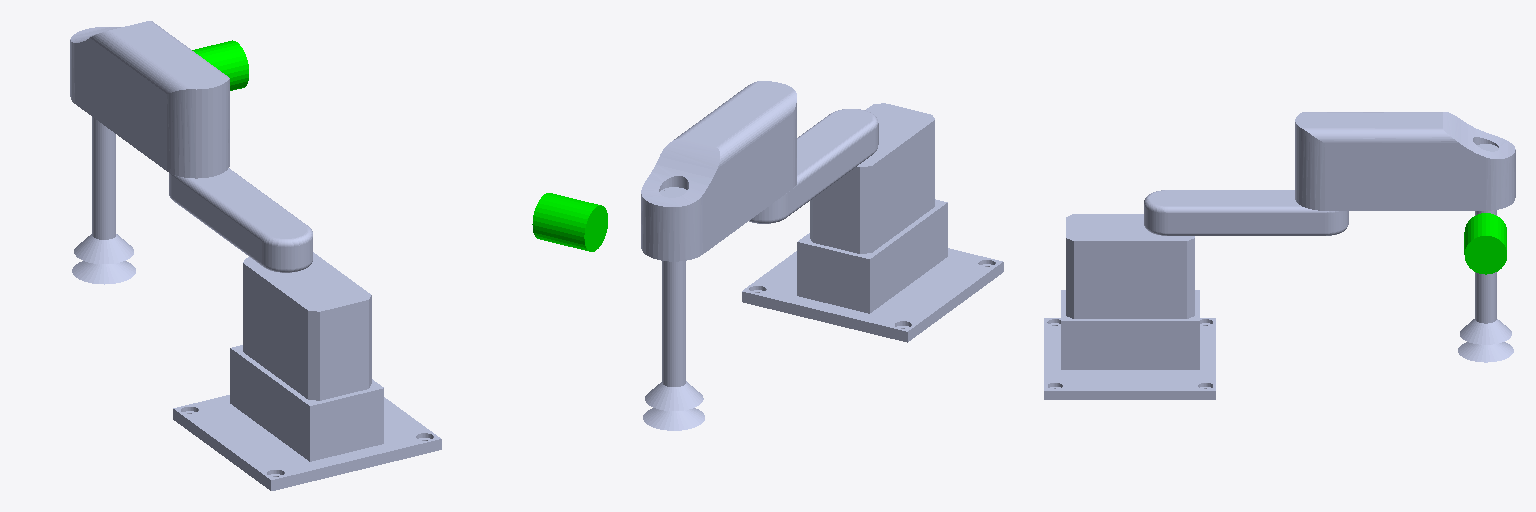
The robot description file, URDF, robot "scara":
<?xml version="1.0" encoding="utf-8"?>
<!-- This URDF was automatically created by SolidWorks to URDF Exporter! Originally created by [author] ([email redacted]) 
     Commit Version: 1.6.0-4-g7f85cfe  Build Version: 1.6.7995.38578
     For more information, please see http://wiki.ros.org/sw_urdf_exporter -->
<robot
  name="scara">
  <link
    name="base_link">
    <inertial>
      <origin
        xyz="4.9228E-19 0.057416 0.00026601"
        rpy="0 0 0" />
      <mass
        value="1.2659" />
      <inertia
        ixx="0.0041167"
        ixy="1.7022E-19"
        ixz="-1.4674E-19"
        iyy="0.0027026"
        iyz="-2.6126E-05"
        izz="0.0031757" />
    </inertial>
    <visual>
      <origin
        xyz="0 0 0"
        rpy="0 0 0" />
      <geometry>
        <mesh
          filename="package://scara/meshes/base_link.STL" />
      </geometry>
      <material
        name="">
        <color
          rgba="0.79216 0.81961 0.93333 1" />
      </material>
    </visual>
    <collision>
      <origin
        xyz="0 0 0"
        rpy="0 0 0" />
      <geometry>
        <mesh
          filename="package://scara/meshes/base_link.STL" />
      </geometry>
    </collision>
  </link>
  <link
    name="L1">
    <inertial>
      <origin
        xyz="0.067038 0.023797 -3.8903E-18"
        rpy="0 0 0" />
      <mass
        value="0.23993" />
      <inertia
        ixx="5.7474E-05"
        ixy="-5.325E-06"
        ixz="3.6951E-20"
        iyy="0.00068723"
        iyz="-2.0839E-21"
        izz="0.00066974" />
    </inertial>
    <visual>
      <origin
        xyz="0 0 0"
        rpy="0 0 0" />
      <geometry>
        <mesh
          filename="package://scara/meshes/L1.STL" />
      </geometry>
      <material
        name="">
        <color
          rgba="0.79216 0.81961 0.93333 1" />
      </material>
    </visual>
    <collision>
      <origin
        xyz="0 0 0"
        rpy="0 0 0" />
      <geometry>
        <mesh
          filename="package://scara/meshes/L1.STL" />
      </geometry>
    </collision>
  </link>
  <joint
    name="J1"
    type="revolute">
    <origin
      xyz="0 0.035 0.13"
      rpy="1.5708 0 1.5708" />
    <parent
      link="base_link" />
    <child
      link="L1" />
    <axis
      xyz="0 1 0" />
    <limit
      lower="-3.141"
      upper="3.141"
      effort="5"
      velocity="1" />
  </joint>
  <link
    name="L2">
    <inertial>
      <origin
        xyz="0.065399 0.047234 -3.984E-08"
        rpy="0 0 0" />
      <mass
        value="0.76354" />
      <inertia
        ixx="0.00057749"
        ixy="8.8165E-05"
        ixz="-6.814E-10"
        iyy="0.0023115"
        iyz="8.1844E-10"
        izz="0.00252" />
    </inertial>
    <visual>
      <origin
        xyz="0 0 0"
        rpy="0 0 0" />
      <geometry>
        <mesh
          filename="package://scara/meshes/L2.STL" />
      </geometry>
      <material
        name="">
        <color
          rgba="0.79216 0.81961 0.93333 1" />
      </material>
    </visual>
    <collision>
      <origin
        xyz="0 0 0"
        rpy="0 0 0" />
      <geometry>
        <mesh
          filename="package://scara/meshes/L2.STL" />
      </geometry>
    </collision>
  </link>
  <joint
    name="J2"
    type="revolute">
    <origin
      xyz="0.14577 0.03 0"
      rpy="0 0 0" />
    <parent
      link="L1" />
    <child
      link="L2" />
    <axis
      xyz="0 1 0" />
    <limit
      lower="-3.141"
      upper="3.141"
      effort="5"
      velocity="1" />
  </joint>
  <link
    name="L3">
    <inertial>
      <origin
        xyz="5.5511E-17 -0.025 7.9337E-17"
        rpy="0 0 0" />
      <mass
        value="0.0088357" />
      <inertia
        ixx="2.4068E-06"
        ixy="-8.4801E-38"
        ixz="7.053E-38"
        iyy="1.1321E-06"
        iyz="-4.208E-22"
        izz="2.4068E-06" />
    </inertial>
    <visual>
      <origin
        xyz="0 0 0"
        rpy="0 0 0" />
      <geometry>
        <mesh
          filename="package://scara/meshes/L3.STL" />
      </geometry>
      <material
        name="">
        <color
          rgba="0.79216 0.81961 0.93333 1" />
      </material>
    </visual>
    <collision>
      <origin
        xyz="0 0 0"
        rpy="0 0 0" />
      <geometry>
        <mesh
          filename="package://scara/meshes/L3.STL" />
      </geometry>
    </collision>
  </link>
  <joint
    name="J3"
    type="revolute">
    <origin
      xyz="0.15 0.01 0"
      rpy="0 0 3.1416" />
    <parent
      link="L2" />
    <child
      link="L3" />
    <axis
      xyz="0 1 0" />
    <limit
      lower="-3.141"
      upper="3.141"
      effort="5"
      velocity="1" />
  </joint>
  <link
    name="L4">
    <inertial>
      <origin
        xyz="-2.7756E-16 0.06838 2.6195E-17"
        rpy="0 0 0" />
      <mass
        value="0.079259" />
      <inertia
        ixx="0.00031643"
        ixy="2.2941E-21"
        ixz="0"
        iyy="7.481E-06"
        iyz="-7.5439E-20"
        izz="0.00031643" />
    </inertial>
    <visual>
      <origin
        xyz="0 0 0"
        rpy="0 0 0" />
      <geometry>
        <mesh
          filename="package://scara/meshes/L4.STL" />
      </geometry>
      <material
        name="">
        <color
          rgba="0.79216 0.81961 0.93333 1" />
      </material>
    </visual>
    <collision>
      <origin
        xyz="0 0 0"
        rpy="0 0 0" />
      <geometry>
        <mesh
          filename="package://scara/meshes/L4.STL" />
      </geometry>
    </collision>
  </link>
  <joint
    name="J4"
    type="prismatic">
    <origin
      xyz="0 0 0"
      rpy="0 0 0" />
    <parent
      link="L3" />
    <child
      link="L4" />
    <axis
      xyz="0 1 0" />
    <limit
      lower="-0.12"
      upper="0"
      effort="5"
      velocity="1" />
  </joint>
  <!-- Vacuum gripper for scara -->
  <link name="vacuum_gripper_scara">
    <visual>
      <origin xyz="0 0 0.05" rpy="0 0 0"/>
      <geometry>
        <cylinder length="0.05" radius="0.02"/>
      </geometry>
      <material name="green">
        <color rgba="0 1 0 1"/>
      </material>
    </visual>
  </link>
  <joint name="vacuum_gripper_scara_joint" type="fixed">
    <parent link="L4"/>
    <child link="vacuum_gripper_scara"/>
    <origin xyz="0 0 0.05" rpy="0 0 0"/>
  </joint>
</robot>

--- What the picture shows (computed from the rendered views, not written in the file) ---
Views: 3 orthographic renders of the robot side by side, from view 1: azimuth 30°, elevation 25°; view 2: azimuth 150°, elevation 25°; view 3: azimuth 270°, elevation 25°.
Model scara with 6 links and 5 joints (3 revolute, 1 prismatic, 1 fixed), rooted at base_link, posed every joint at zero.
Links seen in each view (by area): view 1: base_link, L2, L1, L4, vacuum_gripper_scara; view 2: base_link, L2, L1, L4, vacuum_gripper_scara; view 3: base_link, L2, L1, L4, vacuum_gripper_scara.
Link boxes in pixels (<box>): base_link: <box>173,252,441,490</box>; L2: <box>70,21,229,178</box>; L1: <box>169,168,312,272</box>; L4: <box>72,117,135,284</box>; vacuum_gripper_scara: <box>192,40,248,90</box>; base_link: <box>742,103,1003,342</box>; L2: <box>641,81,796,261</box>; L1: <box>749,109,878,223</box>; L4: <box>643,188,704,430</box>; vacuum_gripper_scara: <box>532,193,607,251</box>; base_link: <box>1044,214,1215,399</box>; L2: <box>1295,112,1515,210</box>; L1: <box>1144,190,1348,235</box>; L4: <box>1458,145,1513,362</box>; vacuum_gripper_scara: <box>1464,213,1506,274</box>.
Bounding box of the posed robot: 0.205 × 0.4383 × 0.25 m (x, y, z).
5 mesh visuals loaded from 5 distinct referenced files (5 binary STL).